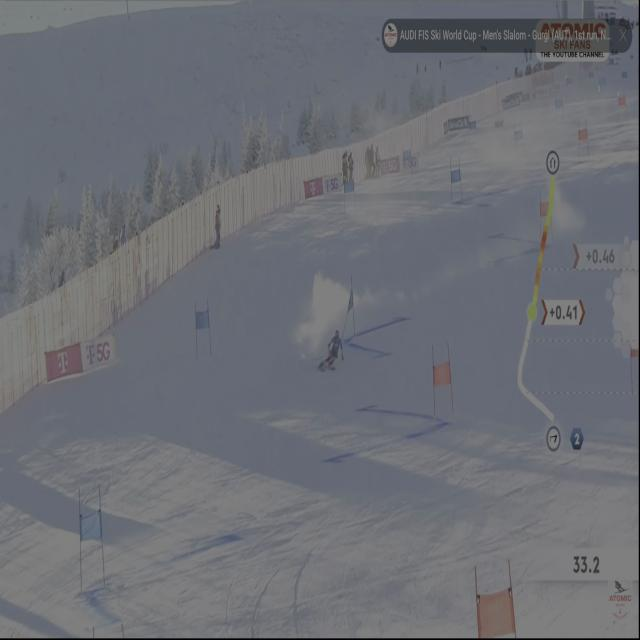gate: (89, 480, 112, 592), (66, 476, 85, 596), (423, 339, 443, 423), (441, 341, 458, 413), (206, 295, 217, 365), (189, 299, 201, 357), (444, 156, 454, 209), (455, 156, 464, 206)
